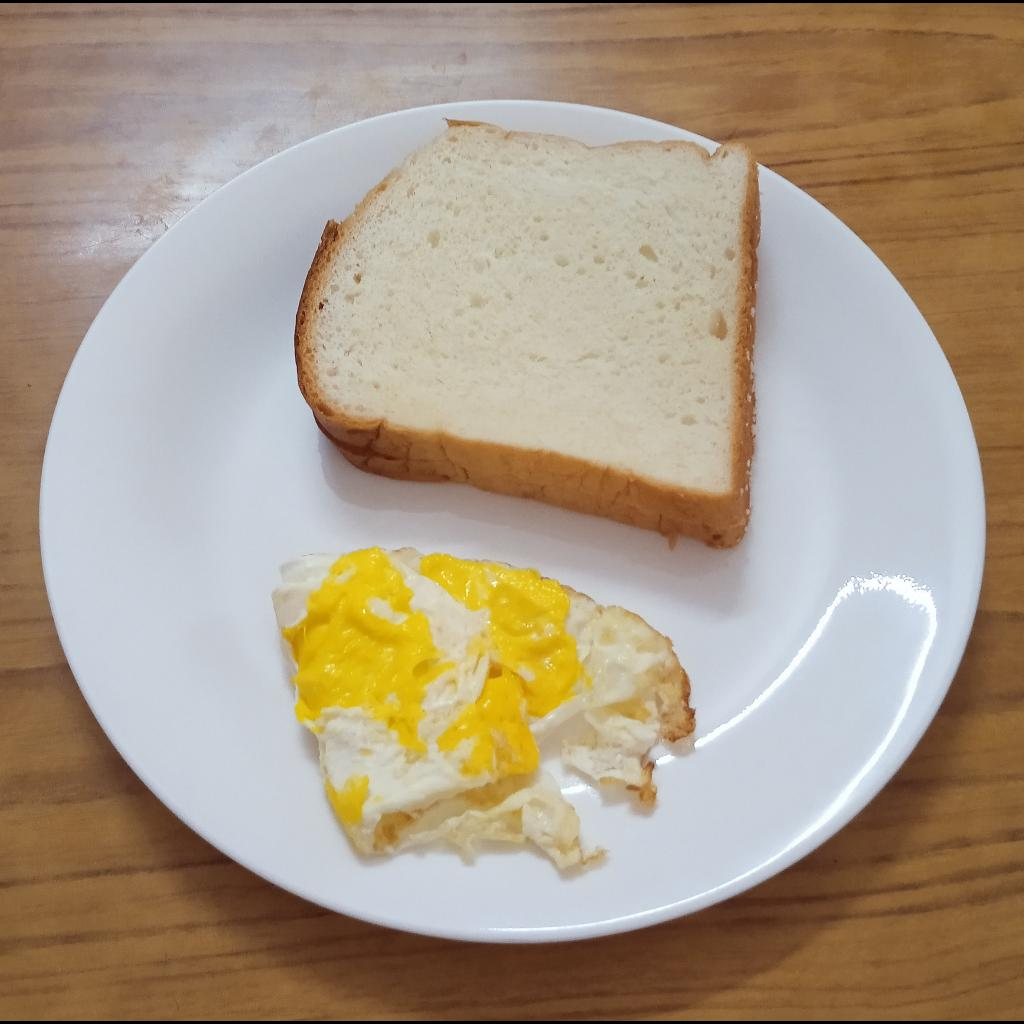bread: (292, 116, 763, 551)
egg-poached: (274, 545, 701, 879)
